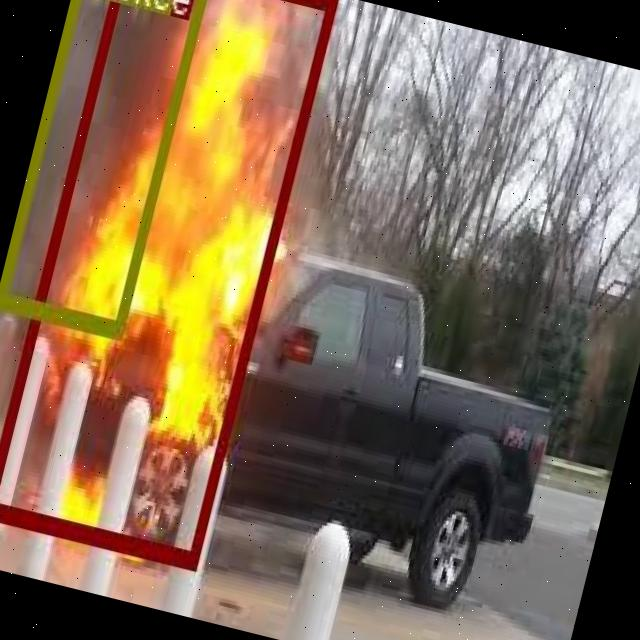fire: (0, 0, 335, 566)
smoke: (0, 0, 211, 333)
